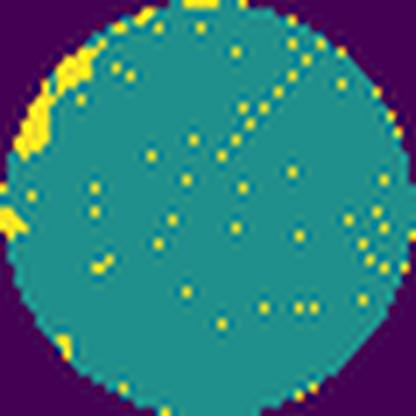Edge-Loc: (7, 36, 110, 160), (0, 198, 33, 248)
